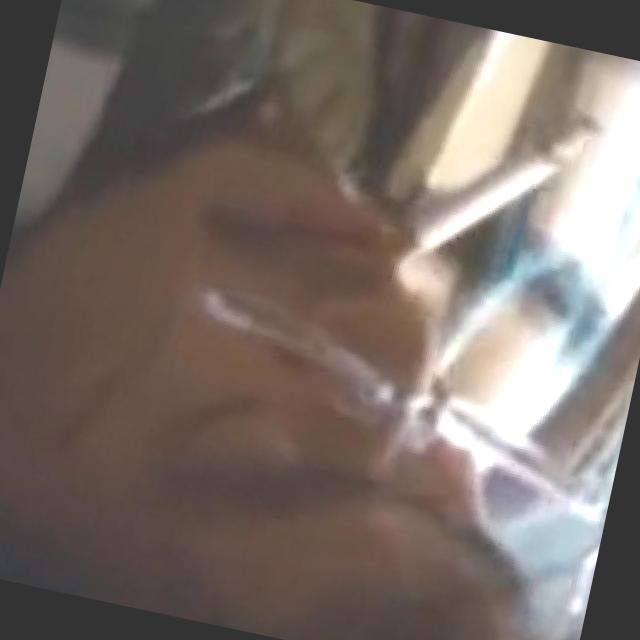smoke: (385, 79, 611, 299)
